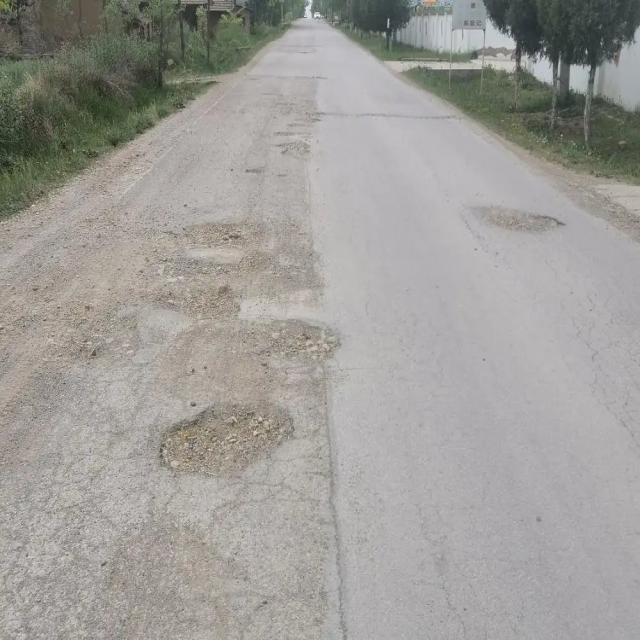Pothole: (165, 402, 291, 486), (258, 322, 342, 368), (479, 211, 569, 238), (178, 220, 262, 248), (275, 138, 316, 162)
